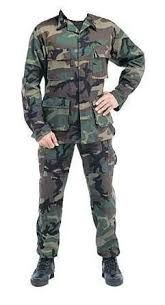uniform: (25, 5, 120, 279)
